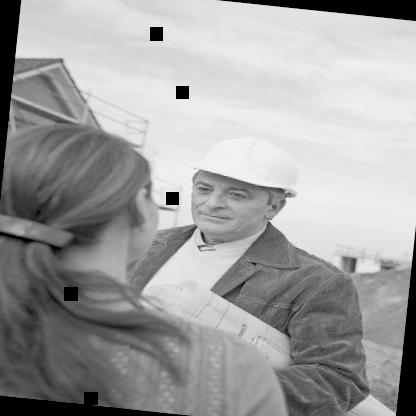head: (0, 115, 172, 294)
helmet: (159, 113, 324, 258)
